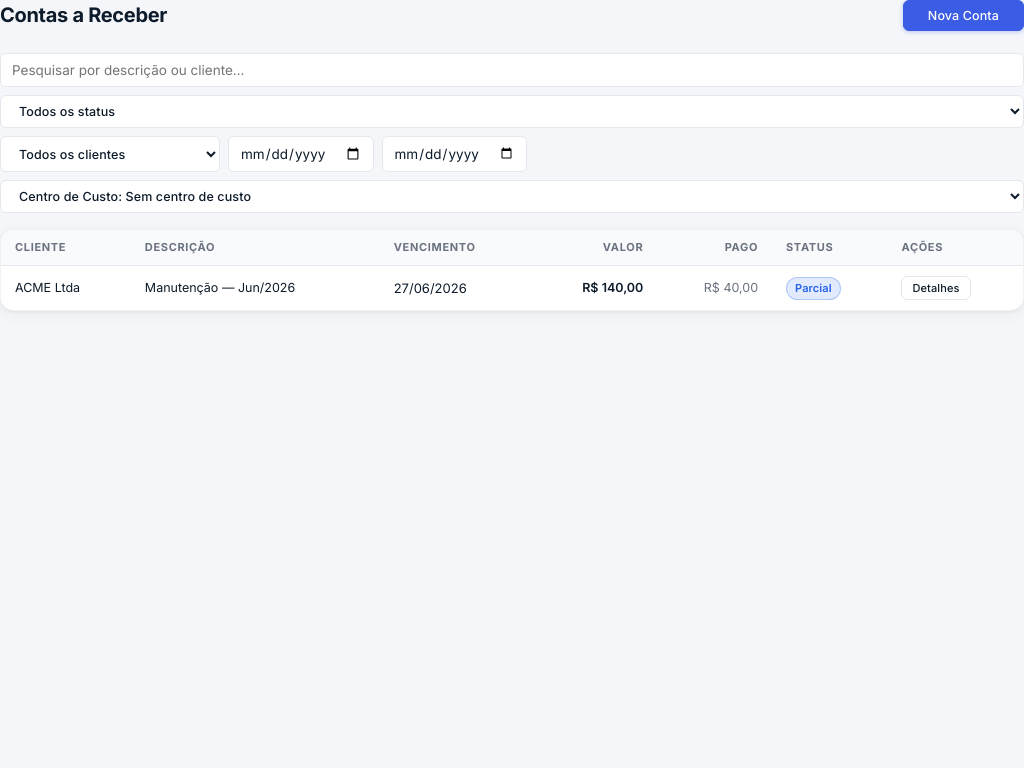
ReceivablesPage — alterar vencimento (regra 82) › mostra o botão "Alterar vencimento" pra uma conta parcial sem boleto
The width and height of the screenshot is (1024, 768).
Check: the text "Manutenção — Jun/2026" is shown, box [131, 266, 380, 310]
Click the button "Detalhes" at [936, 288], box [902, 276, 971, 300]
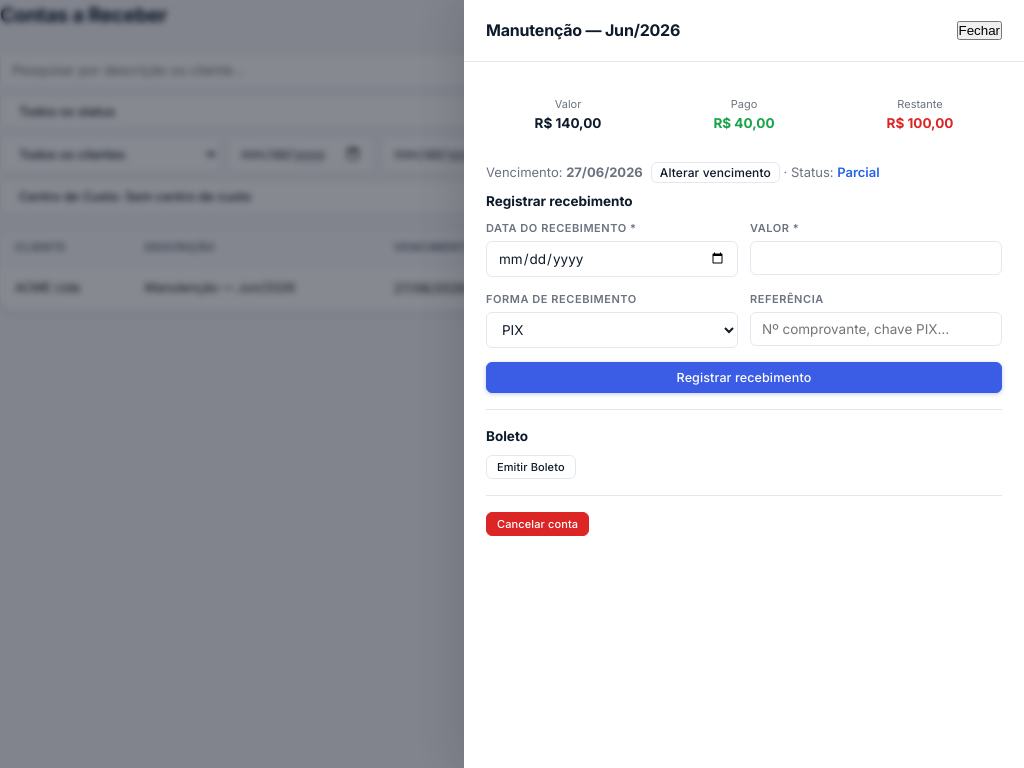
Check: the button "Alterar vencimento" is shown, box [651, 162, 780, 183]
